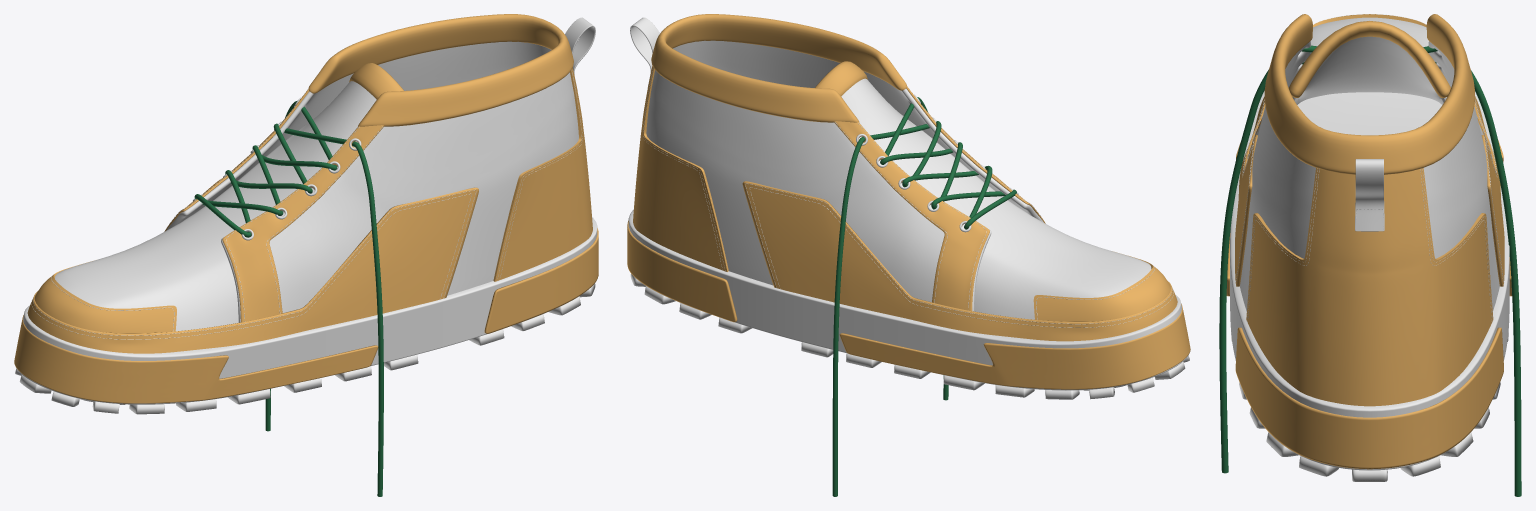
File: Shoe-transformed.glb
3 renders of one model, left to right at view 1: azimuth 30°, elevation 25°; view 2: azimuth 150°, elevation 25°; view 3: azimuth 270°, elevation 25°, orthographic. The views are drawn at different scales.
Parts seen in each view (by area): view 1: Shoe V4 Side, Shoe V4 Toe Wrap, Shoe V4 Front, Shoe V4 Top, Shoe V4 Soul, Shoe V4 Soul Front, Shoe V4 Back Leather, Shoe V4 Lace Leathers, Shoe V4 Laces, Shoe V4 Soul Back, Shoe V4 Toe, Shoe V4 Treads (+3 smaller); view 2: Shoe V4 Side, Shoe V4 Toe Wrap, Shoe V4 Front, Shoe V4 Top, Shoe V4 Soul, Shoe V4 Soul Front, Shoe V4 Back Leather, Shoe V4 Lace Leathers, Shoe V4 Laces, Shoe V4 Soul Back, Shoe V4 Toe, Shoe V4 Treads (+3 smaller); view 3: Shoe V4 Back Leather, Shoe V4 Soul Back, Shoe V4 Side, Shoe V4 Top, Shoe V4 Soul, Shoe V4 Front, Shoe V4 Laces, Shoe V4 Toe Wrap, Shoe V4 Toungue Top, Shoe V4 Treads, Shoe V4 Loop, Shoe V4 Back Leather Stitch (+2 smaller).
Part boxes in pixels (<box>): Shoe V4 Side: <box>166,41,578,322</box>; Shoe V4 Toe Wrap: <box>27,187,478,353</box>; Shoe V4 Front: <box>55,81,376,331</box>; Shoe V4 Top: <box>308,14,573,126</box>; Shoe V4 Soul: <box>16,217,597,404</box>; Shoe V4 Soul Front: <box>14,315,378,403</box>; Shoe V4 Back Leather: <box>493,68,592,281</box>; Shoe V4 Lace Leathers: <box>164,89,384,322</box>; Shoe V4 Laces: <box>194,100,383,496</box>; Shoe V4 Soul Back: <box>484,228,598,333</box>; Shoe V4 Toe: <box>34,262,176,333</box>; Shoe V4 Treads: <box>15,283,595,414</box>; Shoe V4 Side: <box>646,40,1043,311</box>; Shoe V4 Toe Wrap: <box>742,181,1177,341</box>; Shoe V4 Front: <box>841,78,1151,319</box>; Shoe V4 Top: <box>651,14,906,122</box>; Shoe V4 Soul: <box>628,209,1188,390</box>; Shoe V4 Soul Front: <box>839,304,1190,389</box>; Shoe V4 Back Leather: <box>633,66,728,271</box>; Shoe V4 Lace Leathers: <box>834,86,1045,310</box>; Shoe V4 Laces: <box>832,97,1016,496</box>; Shoe V4 Soul Back: <box>627,220,737,322</box>; Shoe V4 Toe: <box>1033,255,1170,321</box>; Shoe V4 Treads: <box>630,274,1189,399</box>; Shoe V4 Back Leather: <box>1246,168,1493,406</box>; Shoe V4 Soul Back: <box>1235,327,1503,469</box>; Shoe V4 Side: <box>1240,41,1499,311</box>; Shoe V4 Top: <box>1264,14,1474,174</box>; Shoe V4 Soul: <box>1230,91,1509,470</box>; Shoe V4 Front: <box>1292,17,1446,104</box>; Shoe V4 Laces: <box>1219,45,1521,496</box>; Shoe V4 Toe Wrap: <box>1235,96,1504,286</box>; Shoe V4 Toungue Top: <box>1288,21,1450,98</box>; Shoe V4 Treads: <box>1231,332,1508,481</box>; Shoe V4 Loop: <box>1355,159,1384,231</box>; Shoe V4 Back Leather Stitch: <box>1247,168,1492,322</box>.
Bounding box in the file's own units: 4.97 × 3.29 × 1.78.
